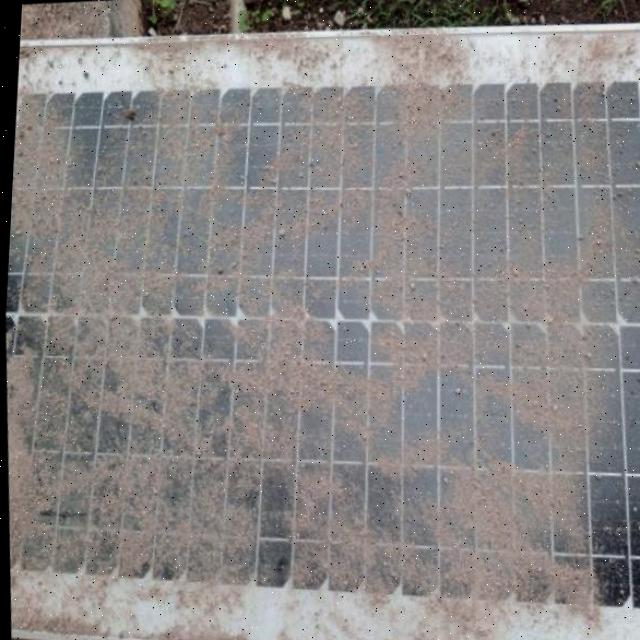Surface Contaminant: (1, 26, 592, 623)
